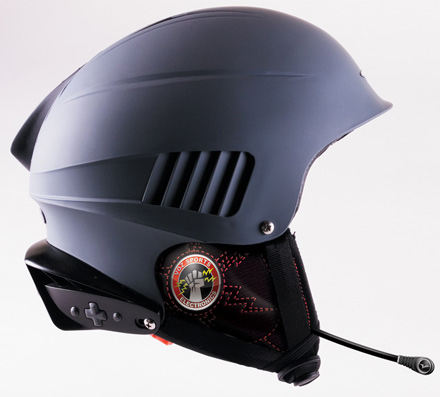helmet: (12, 34, 409, 370)
